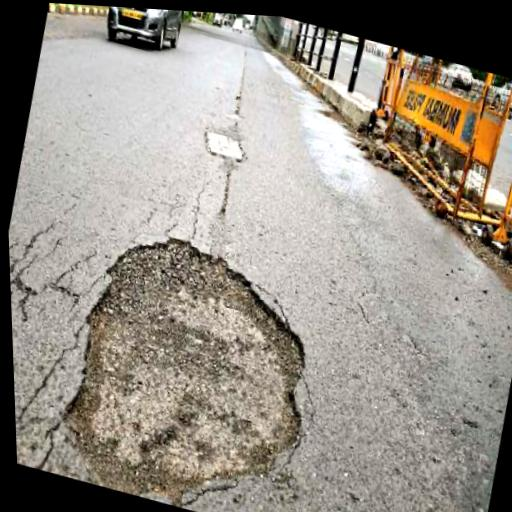pothole: (43, 204, 343, 512)
